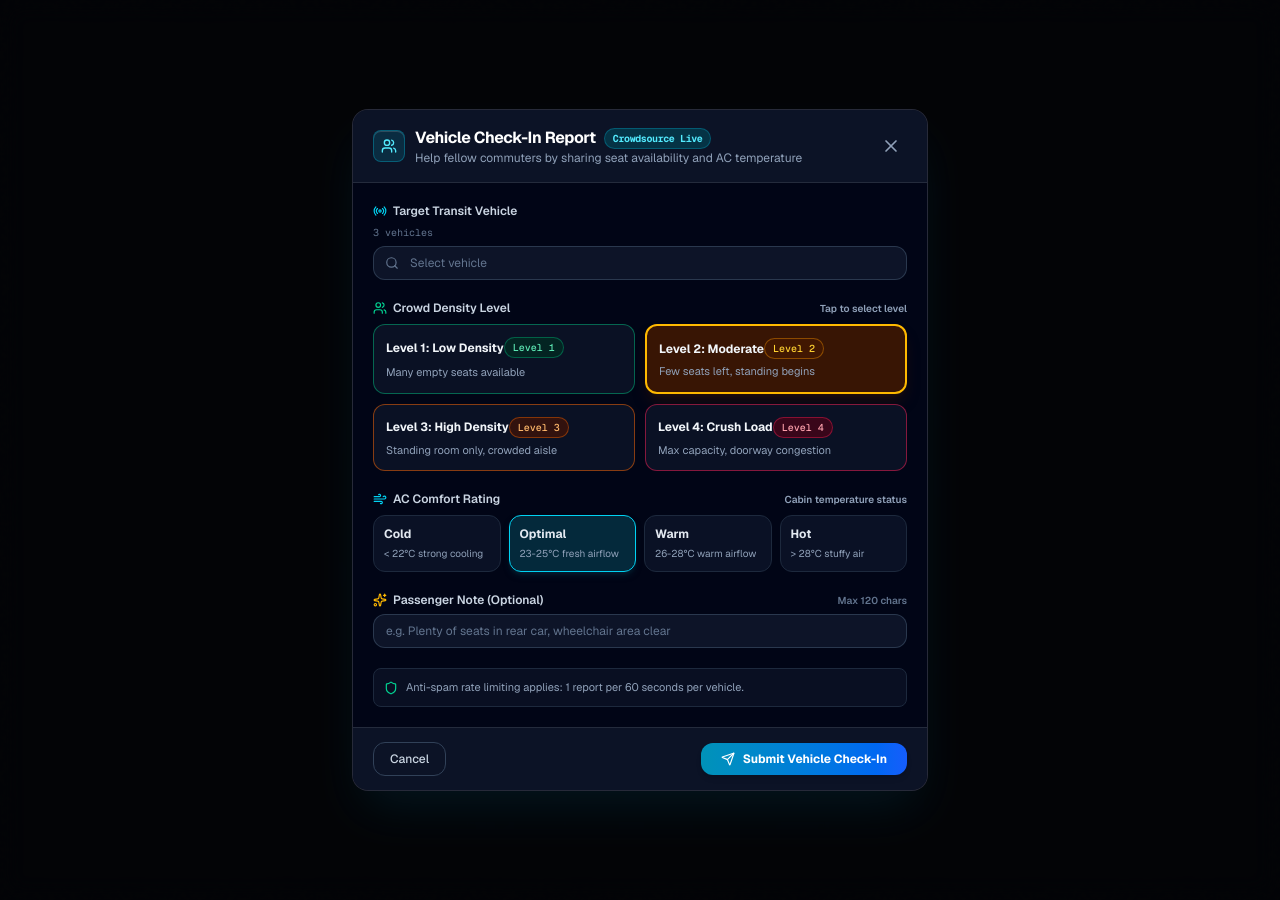
Test case: crowd vehicle combobox › Escape closes the list without closing the modal
Expected: the dialog is shown, x1=352 y1=109 x2=928 y2=791
Focus the dropdown labelled "Target Transit Vehicle" at {"x": 640, "y": 263}, box x1=373 y1=246 x2=907 y2=280
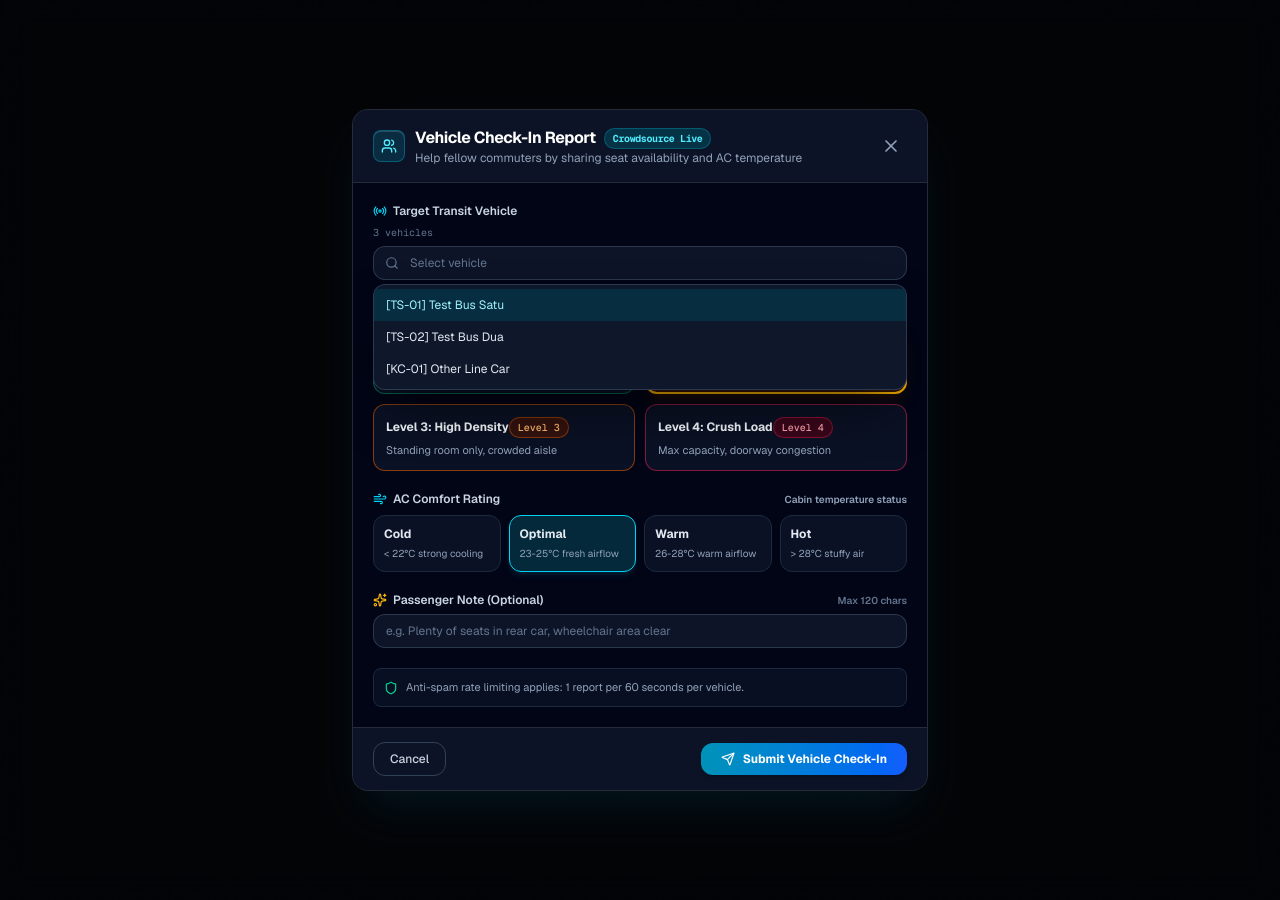
Result: the list is shown at x1=373 y1=284 x2=907 y2=390
Press Escape in the dropdown labelled "Target Transit Vehicle", box x1=373 y1=246 x2=907 y2=280
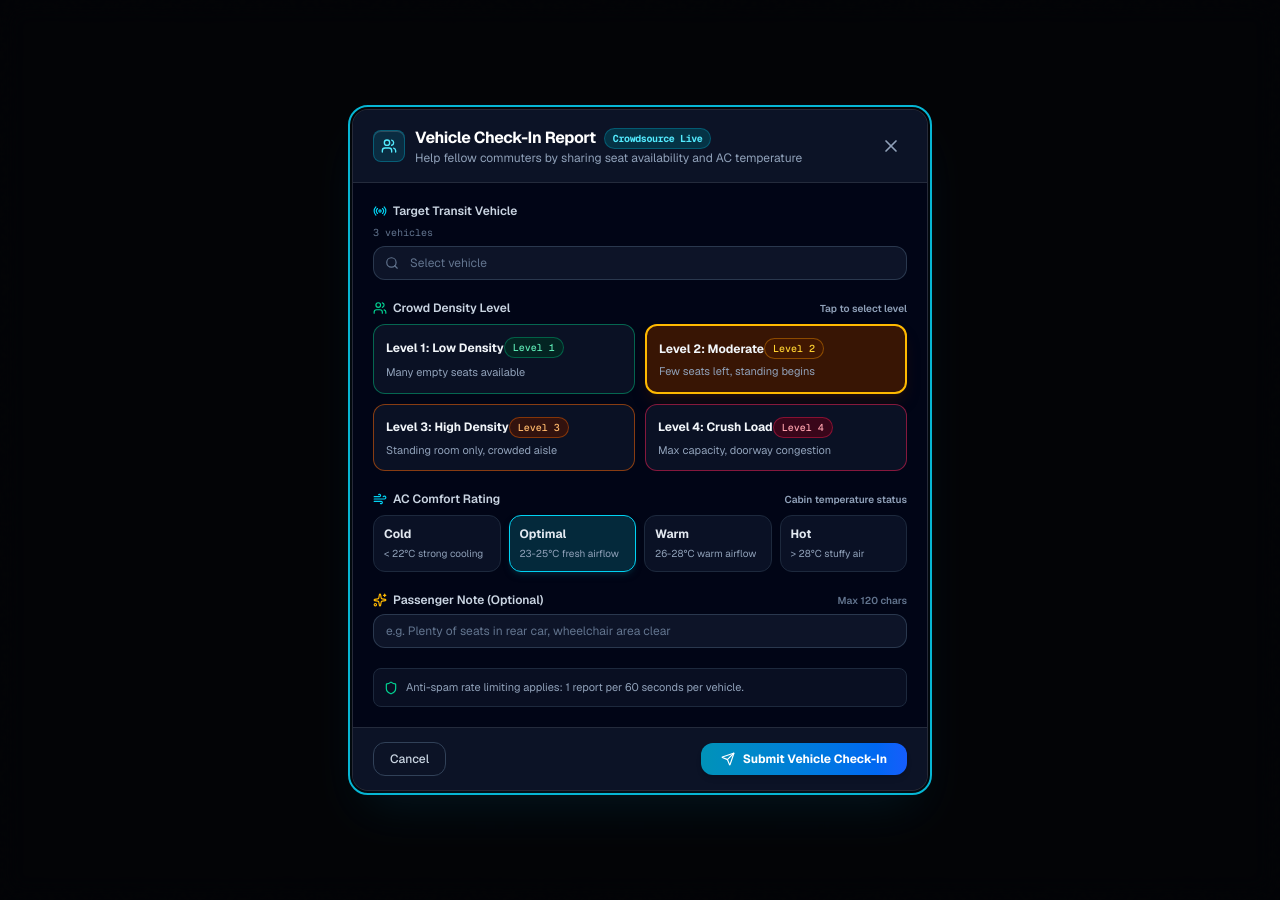
Result: the list is gone
